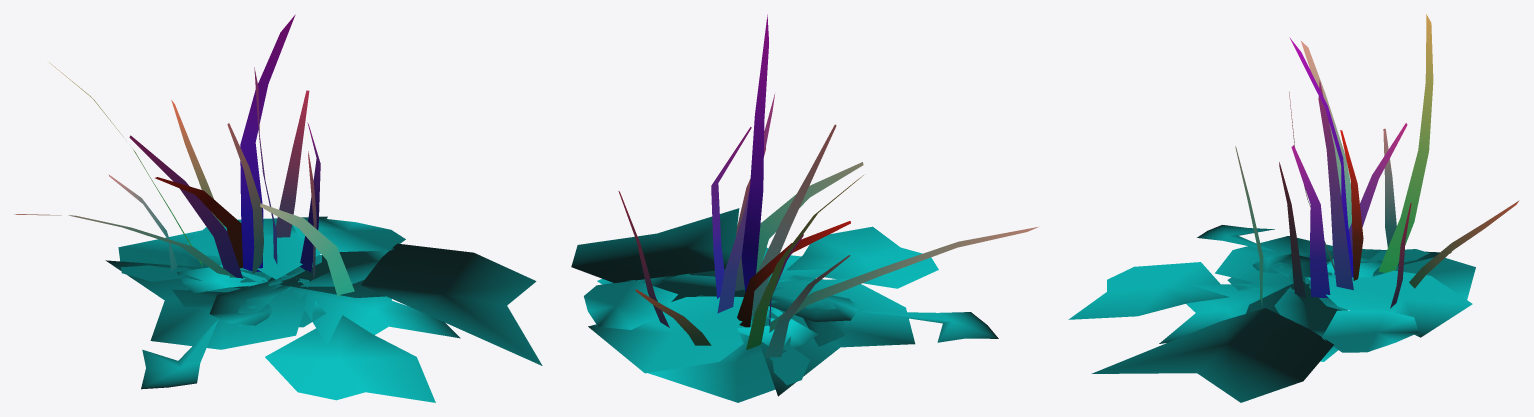
Rendered from Wild_Grass_vczndjqja_Mid_vczndjqja_VarC_LOD0.fbx.
The picture shows the model from 3 angles, left to right: view 1: azimuth 30°, elevation 25°; view 2: azimuth 150°, elevation 25°; view 3: azimuth 270°, elevation 25°; orthographic projection. The views are drawn at different scales.
Parts seen in each view (by area): view 1: _y4dv_VarC_LOD1; view 2: _y4dv_VarC_LOD1; view 3: _y4dv_VarC_LOD1.
Part boxes in pixels (x1=…): _y4dv_VarC_LOD1: x1=14, y1=14, x2=542, y2=402; _y4dv_VarC_LOD1: x1=571, y1=14, x2=1037, y2=402; _y4dv_VarC_LOD1: x1=1068, y1=14, x2=1519, y2=402.
Bounding box in the file's own units: 54.15 × 32.29 × 47.8.
